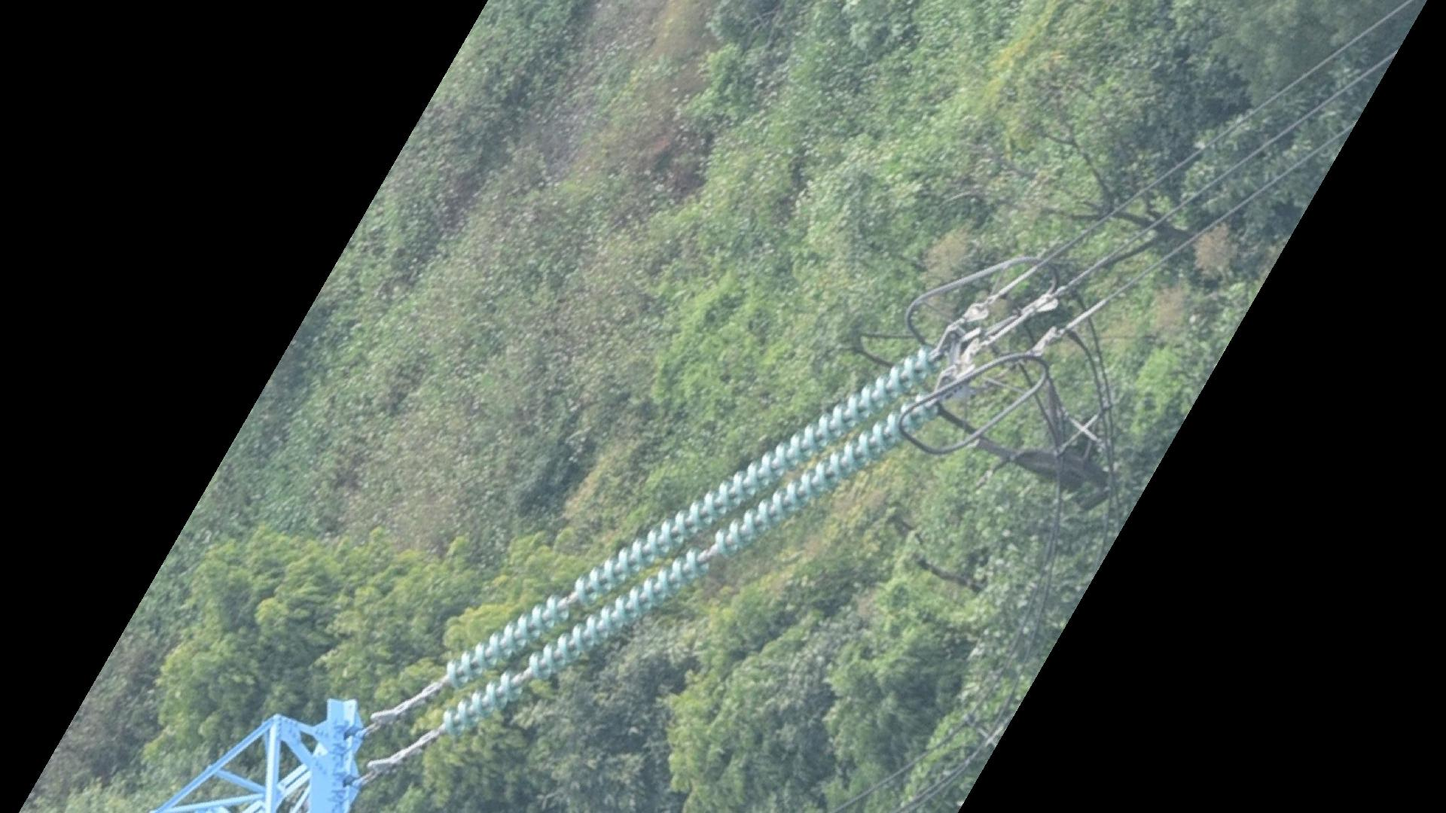insulator: (425, 339, 949, 751)
insulator_stringdrop: (683, 523, 738, 583), (542, 571, 594, 629)
